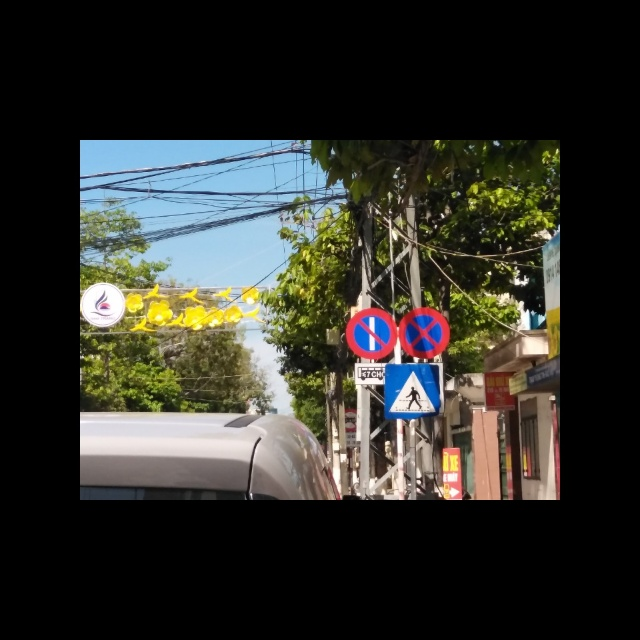Cấm dừng xe và đỗ xe: (398, 308, 450, 357)
Cấm đỗ xe ngày lẻ: (344, 306, 399, 360)
Đường dành cho người đi bộ: (384, 364, 442, 419)
